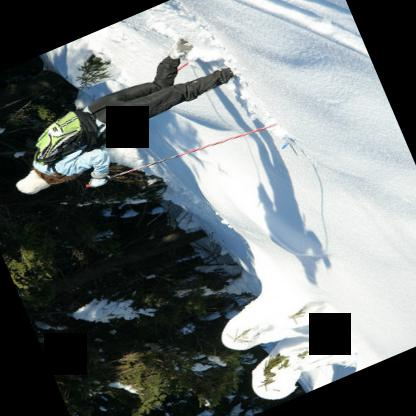backpack: (29, 102, 123, 180)
